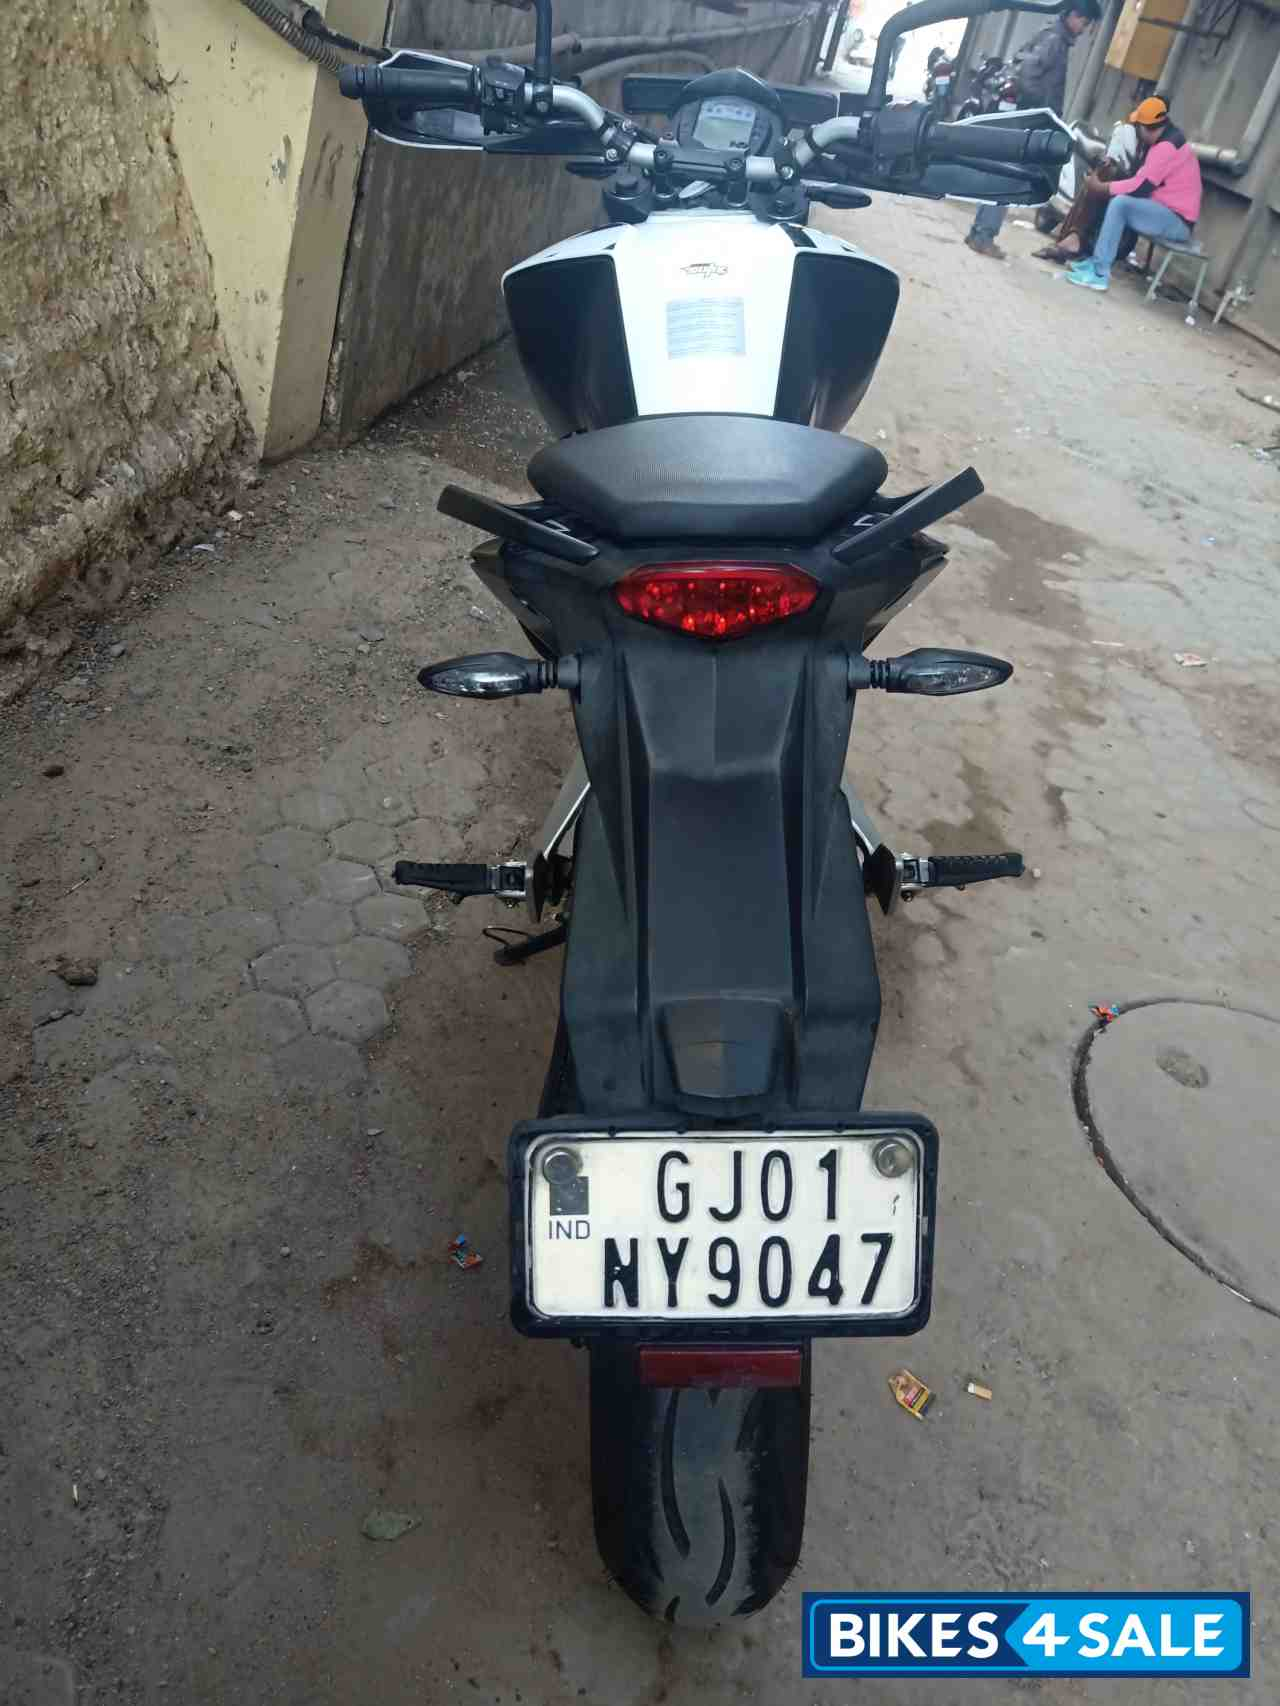doublelinenumberplate: (513, 1113, 939, 1334)
